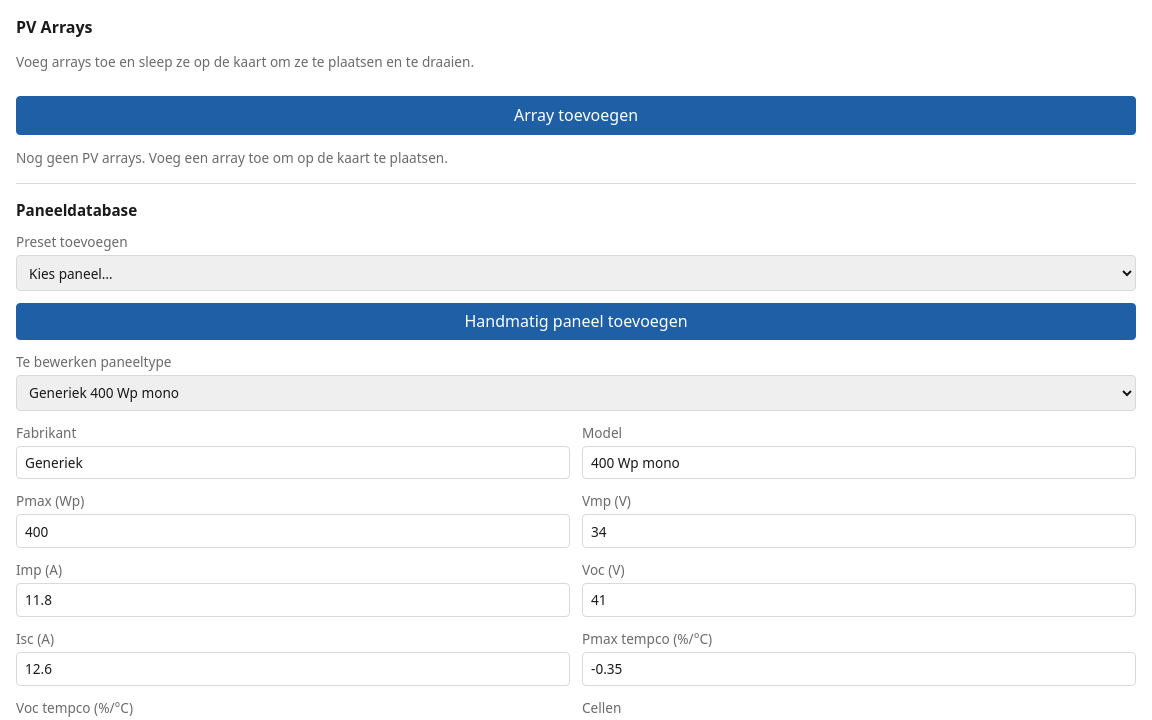
it: <PVArraysTab> › starts empty, shows the map, and creates a default PV array
Expected: the text "Nog geen PV arrays" is shown, [16,148,448,167]
Step 1. Click the button "Array toevoegen" → (576, 115), box [16,96,1136,135]
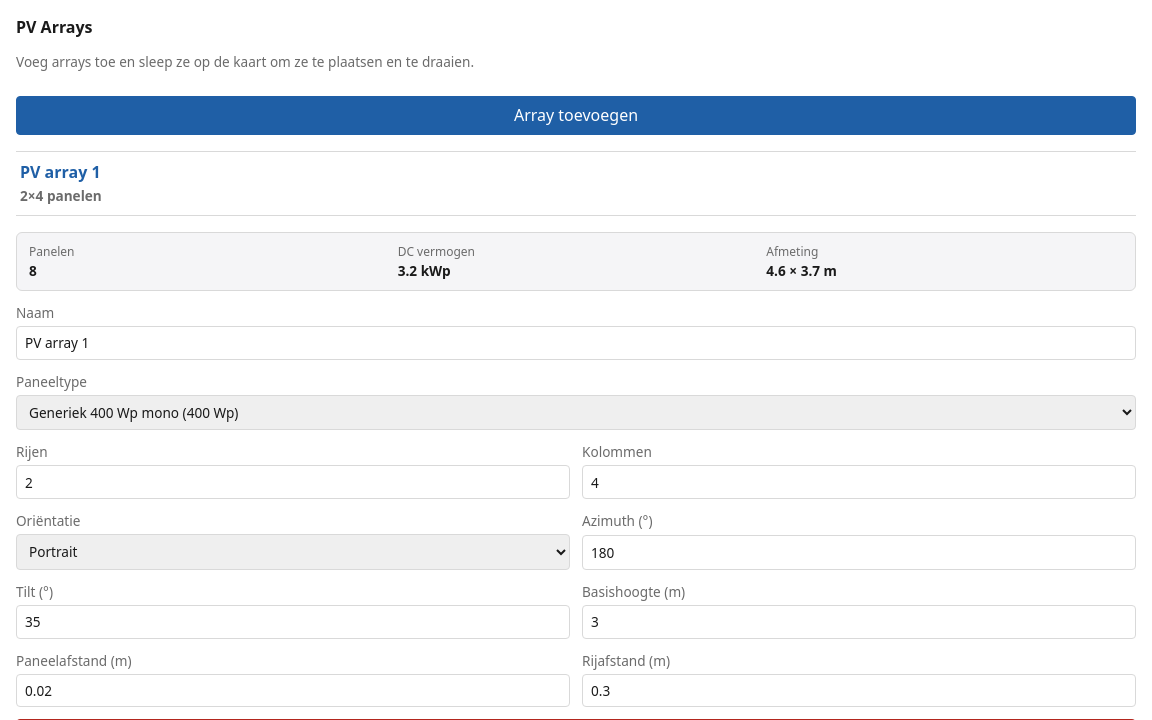
Now the button "PV array 1 2×4 panelen" is shown, box [16,152,1136,215]
Now the text "Panelen" is shown, box [29,242,74,260]
Now the text "3.2 kWp" is shown, box [398,261,451,280]
